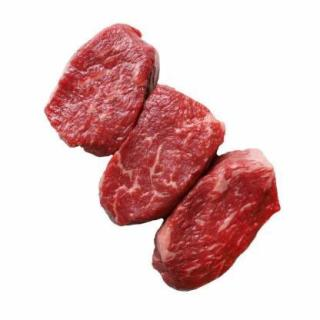Daging Sapi: (151, 151, 280, 292), (101, 88, 225, 226), (50, 23, 161, 156)
